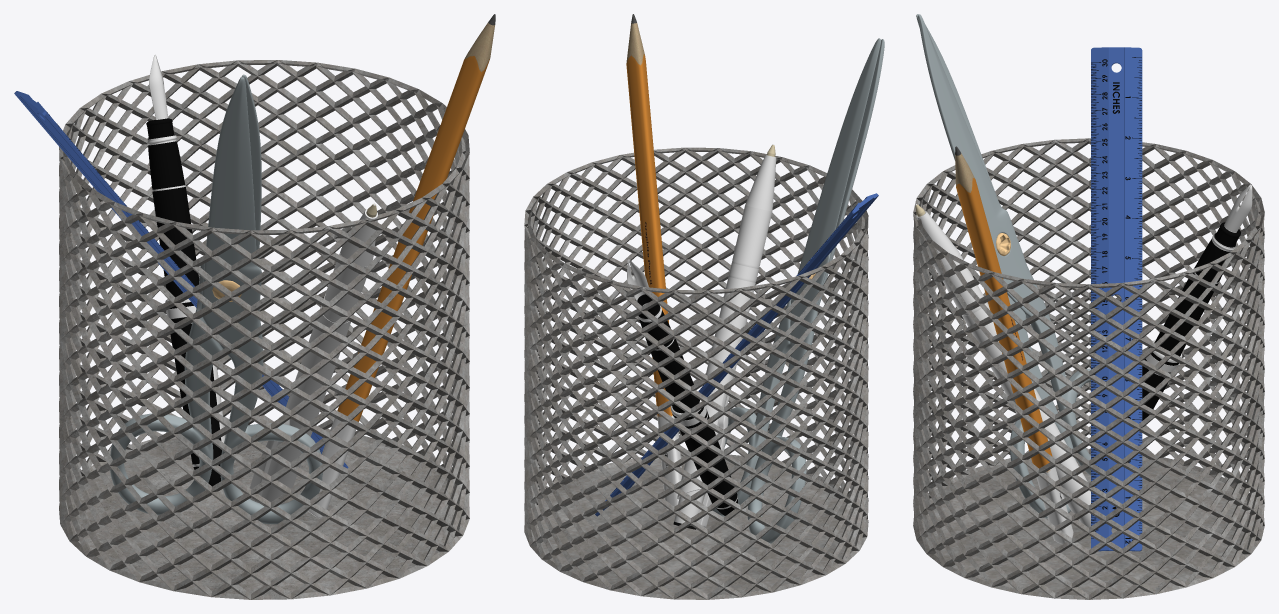
Rendered from Utiles.glb.
The picture shows the model from 3 angles, left to right: view 1: azimuth 30°, elevation 25°; view 2: azimuth 150°, elevation 25°; view 3: azimuth 270°, elevation 25°; orthographic projection. The views are drawn at different scales.
Parts seen in each view (by area): view 1: Cylinder, Cylinder.001, Circle.001, Graphite Pencil, Plume_Final, zaślepka, 12in_Ruler; view 2: Cylinder, Cylinder.001, Circle.001, Graphite Pencil, zaślepka, Plume_Final, 12in_Ruler; view 3: Cylinder, 12in_Ruler, Cylinder.001, Circle.001, Graphite Pencil, Plume_Final, zaślepka.
Part boxes in pixels (x1,y1,x2,y2): Cylinder: (59,60,469,599); Cylinder.001: (73,434,455,594); Circle.001: (110,74,322,524); Graphite Pencil: (308,14,495,518); Plume_Final: (146,55,225,486); zaślepka: (250,203,377,504); 12in_Ruler: (14,91,348,468); Cylinder: (524,147,868,599); Cylinder.001: (535,457,856,595); Circle.001: (713,38,884,543); Graphite Pencil: (626,14,682,509); zaślepka: (673,144,776,529); Plume_Final: (627,259,737,515); 12in_Ruler: (595,193,878,516); Cylinder: (913,138,1264,599); 12in_Ruler: (1091,47,1142,551); Cylinder.001: (928,454,1249,595); Circle.001: (916,14,1090,518); Graphite Pencil: (955,146,1073,544); Plume_Final: (1142,184,1252,420); zaślepka: (915,204,1090,527).
Size of the model in its own units: 2.27 by 2.97 by 2.04.
15 materials, 2 textured.
